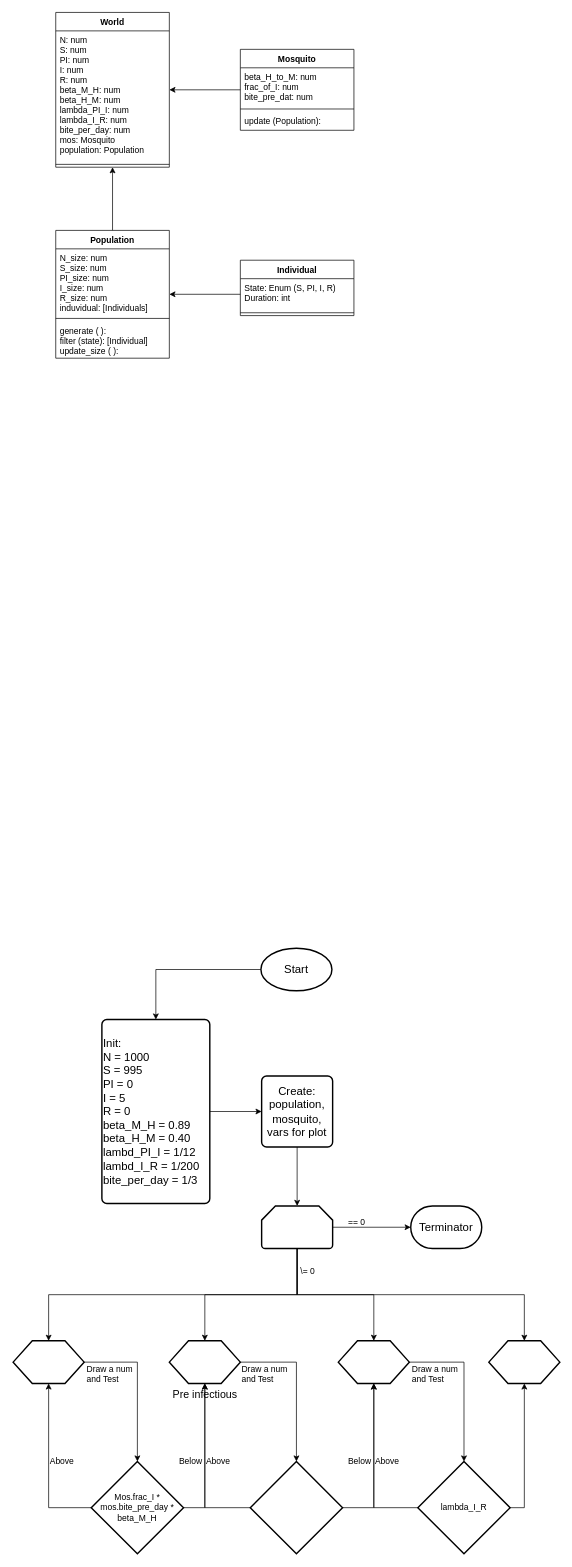
Image size: 572x1567. Some labels were removed from this diagram. Here are the shapes that lost their labels. From the top down, the centre of each, then its label:
the point at 297,1227: I + R
the point at 48,1362: Susceptious
the point at 373,1362: Infectious
the point at 524,1362: Recovery
the point at 296,1507: lambda_PI_I
